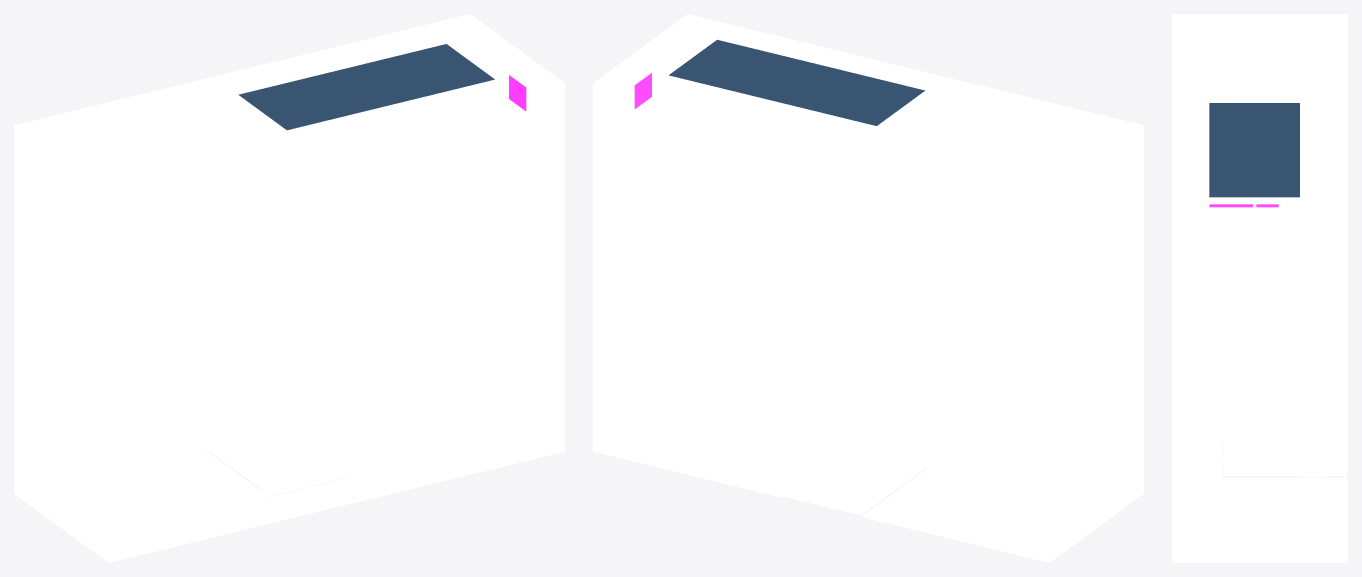
File: apartment-interior.glb
3 renders of one model, left to right at view 1: azimuth 30°, elevation 25°; view 2: azimuth 150°, elevation 25°; view 3: azimuth 270°, elevation 25°, orthographic. The views are drawn at different scales.
Visible parts, largest first — view 1: apt_shell, apt_furniture_warm, apt_window, apt_monitors; view 2: apt_shell, apt_furniture_warm, apt_window; view 3: apt_shell, apt_furniture_warm, apt_window, apt_posters, apt_monitors.
Boxes of the visible parts, x1,y1,x2,y2 form: apt_shell: (14, 14, 564, 562); apt_furniture_warm: (18, 82, 545, 519); apt_window: (238, 44, 494, 130); apt_monitors: (118, 148, 210, 176); apt_shell: (593, 14, 1143, 562); apt_furniture_warm: (598, 77, 1122, 549); apt_window: (669, 39, 924, 125); apt_shell: (1172, 14, 1347, 562); apt_furniture_warm: (1188, 20, 1347, 552); apt_window: (1209, 103, 1299, 197); apt_posters: (1209, 204, 1278, 207); apt_monitors: (1278, 91, 1306, 102).
Size of the model in its own units: 9.2 by 7.12 by 3.3.
